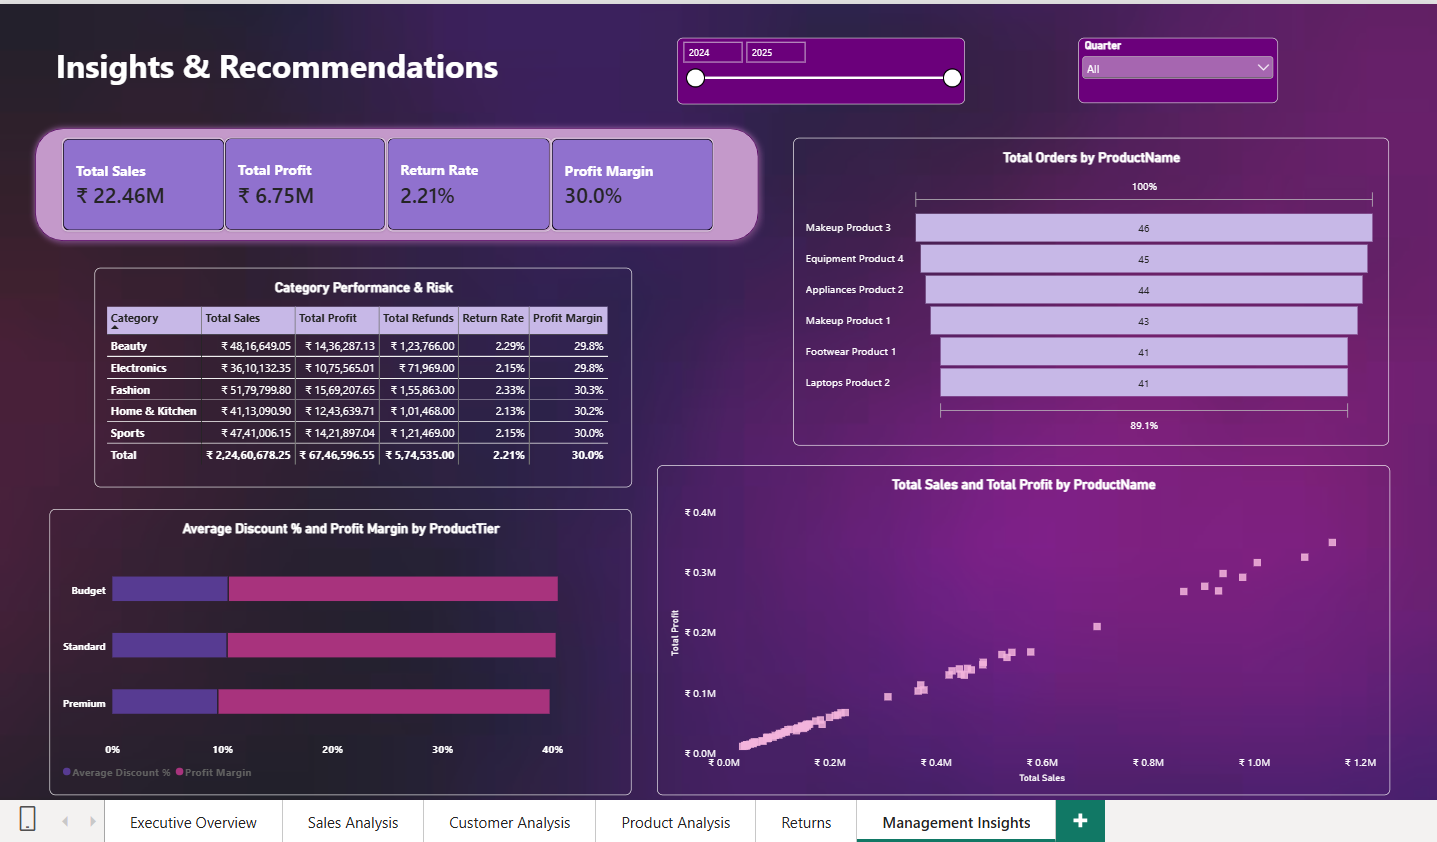

The page's visual inventory and layout, read from the dashboard file:
{"tool":"powerbi","page":{"name":"Management Insights","canvas":[1920,1080],"ordinal":5},"visuals":[{"type":"shape","box":[41.6,157.4,982.6,168.3],"z":0,"group":"g1"},{"type":"barChart","fields":{"Category":["Products.ProductTier"],"Y":["Customers.Average Discount %","Customers.Profit Margin"]},"box":[70.6,673.2,776.3,381.8],"z":0},{"type":"cardVisual","fields":{"Data":["Customers.Total Sales"]},"box":[86.8,179.1,217.2,124.9],"z":1000,"group":"g1"},{"type":"funnel","fields":{"Category":["Products.ProductName"],"Y":["Customers.Total Orders"]},"box":[1062.3,179.2,794.4,410.8],"z":1000},{"type":"cardVisual","fields":{"Data":["Customers.Total Profit"]},"box":[304,179.1,215.3,124.9],"z":2000,"group":"g1"},{"type":"scatterChart","fields":{"Category":["Products.ProductName"],"X":["Customers.Total Sales"],"Y":["Customers.Total Profit"]},"box":[879.5,615.3,977.2,439.7],"z":2000},{"type":"cardVisual","fields":{"Data":["Customers.Return Rate"]},"box":[519.4,179.1,219,124.9],"z":3000,"group":"g1"},{"type":"pivotTable","title":"Category Performance & Risk","fields":{"Rows":["Products.Category"],"Values":["Customers.Total Sales","Customers.Total Profit","Customers.Total Refunds","Customers.Return Rate","Customers.Profit Margin"]},"box":[130.3,351.1,716.6,293.2],"z":3000},{"type":"textbox","box":[77.8,52.5,751,95.9],"z":4000},{"type":"cardVisual","fields":{"Data":["Customers.Profit Margin"]},"box":[738.3,179.1,217.2,124.9],"z":4000,"group":"g1"},{"type":"slicer","fields":{"Values":["Date.Quarter"]},"box":[1442.3,45.2,266,86.9],"z":5000},{"type":"group","id":"g1","title":"Group 1","box":[41.6,157.4,982.6,168.3],"z":6000},{"type":"slicer","fields":{"Values":["Date.Year"]},"box":[906.6,45.2,383.6,88.7],"z":7000}]}

Visuals, with their boxes on the page's 1920x1080 design canvas (x1, y1, x2, y2). These are canvas units, not pixel positions in the 1437x842 screenshot, which may show the page scaled, cropped or inside an application window:
shape: 42 157 1024 326
barChart - Products.ProductTier x Customers.Average Discount %: 71 673 847 1055
cardVisual - Customers.Total Sales: 87 179 304 304
funnel - Products.ProductName x Customers.Total Orders: 1062 179 1857 590
cardVisual - Customers.Total Profit: 304 179 519 304
scatterChart - Products.ProductName x Customers.Total Sales: 880 615 1857 1055
cardVisual - Customers.Return Rate: 519 179 738 304
"Category Performance & Risk" pivotTable: 130 351 847 644
textbox: 78 52 829 148
cardVisual - Customers.Profit Margin: 738 179 956 304
slicer - Date.Quarter: 1442 45 1708 132
"Group 1" group: 42 157 1024 326
slicer - Date.Year: 907 45 1290 134
